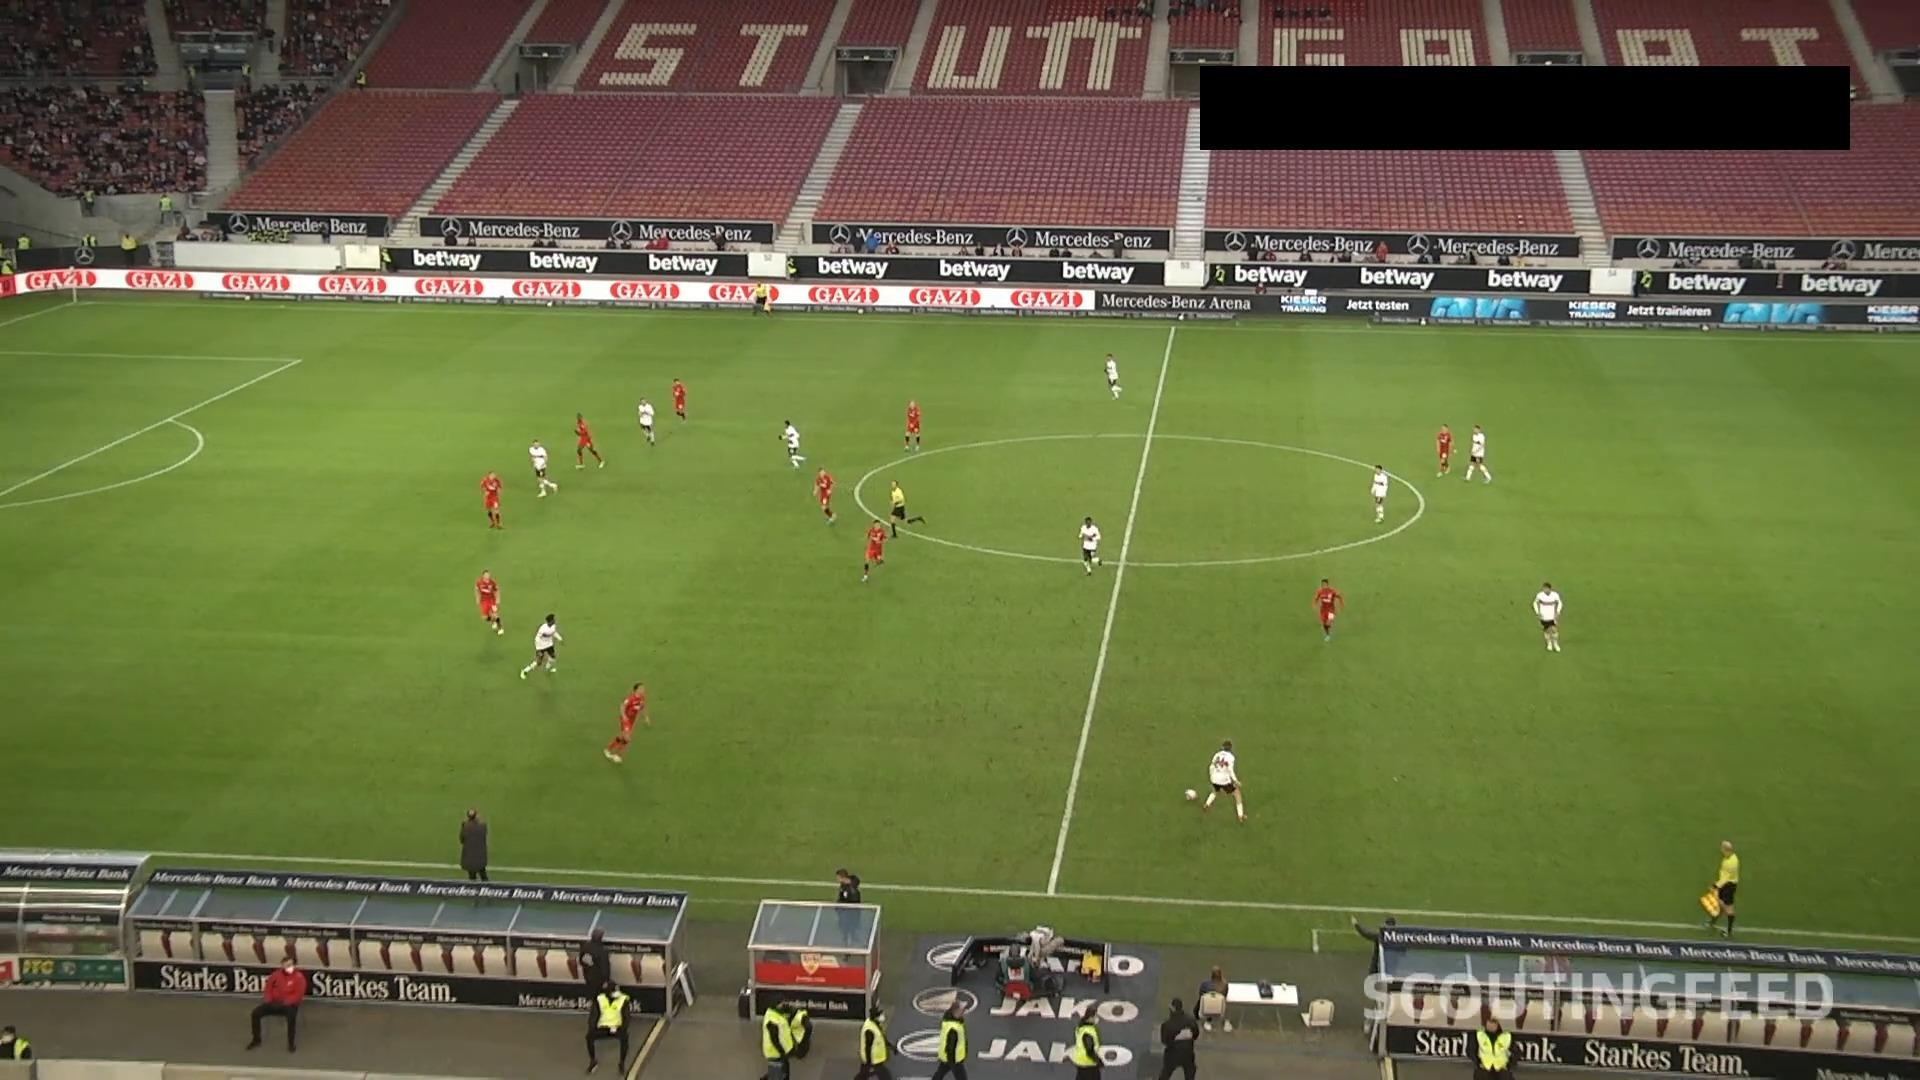ball: (1184, 787, 1199, 802)
